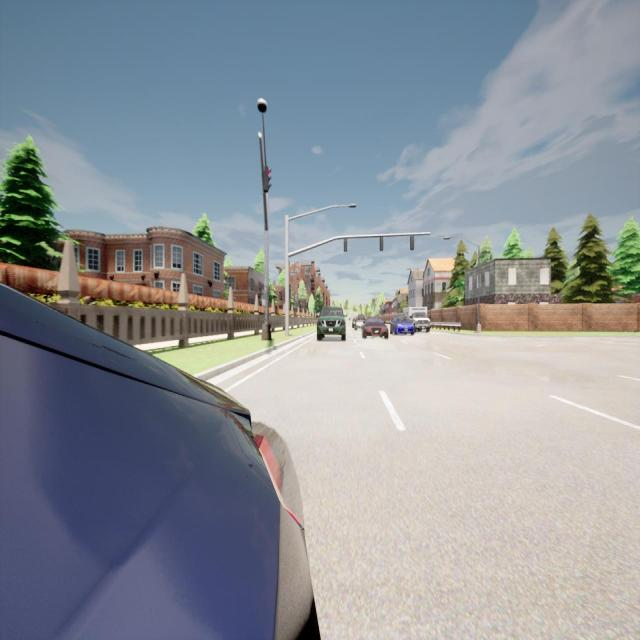Vehicle: (0, 284, 317, 638), (317, 306, 346, 342), (404, 306, 432, 333), (362, 317, 389, 341), (391, 318, 414, 336), (354, 321, 364, 331), (352, 317, 356, 327)
traffic_light: (263, 168, 273, 192), (343, 237, 348, 252), (380, 236, 383, 251), (411, 235, 414, 250)
